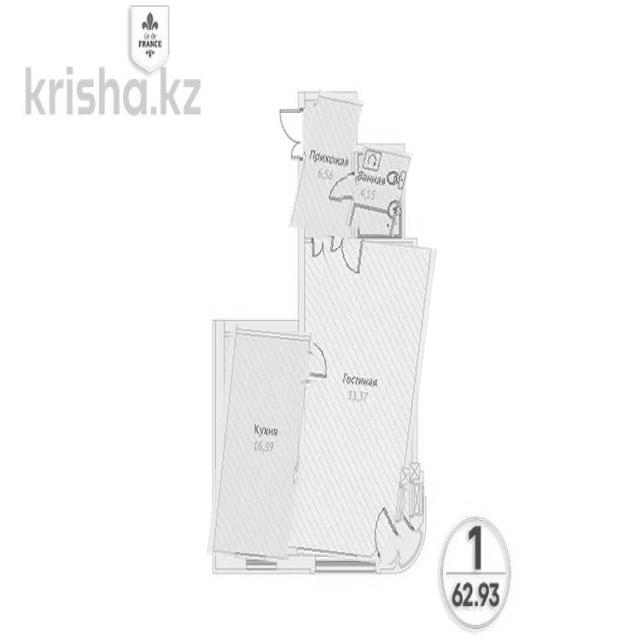bathroom: (349, 145, 409, 235)
hallway: (295, 92, 357, 235)
kitchen: (213, 325, 306, 562)
living_room: (297, 238, 427, 564)
